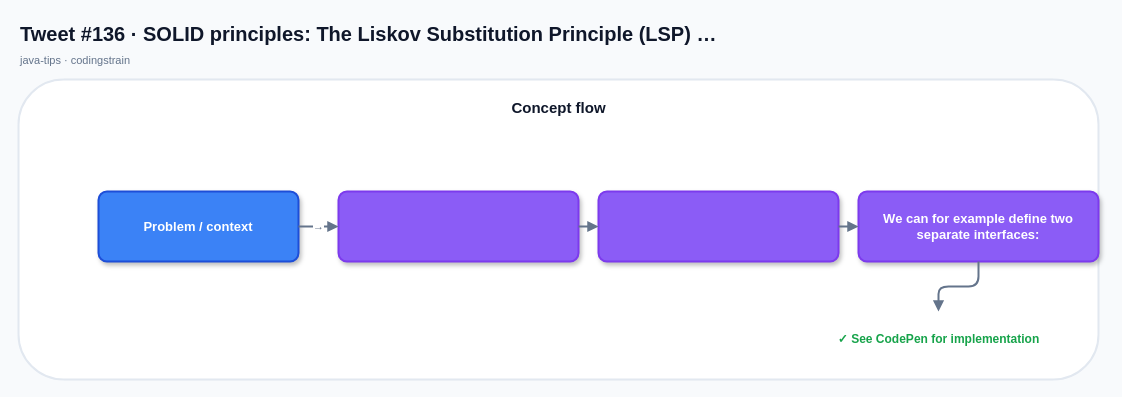
Image size: 1122x397. Some labels were removed from this diagram. The centre of each missing label's shape, as x and y in pixels:
"Subclasses should not behave differently than the base class." goes at point (719, 227).
"💡SOLID principles: The Liskov Substitution Principle (LSP) states that" goes at point (459, 227).
